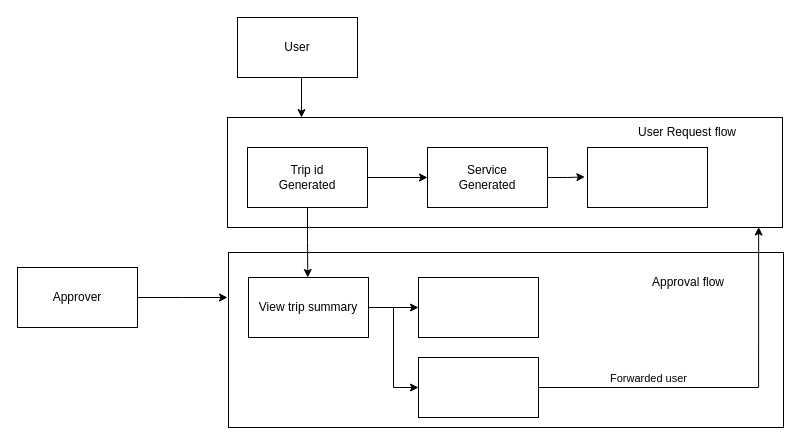
Image size: 801x445. Some labels were removed from this diagram. The centre of each missing label's shape, as x and y in pixels:
"Status (approval/rejected)" goes at (x=478, y=307).
"Status (clarification)" goes at (x=478, y=387).
"Trip request Generated" goes at (x=647, y=177).
